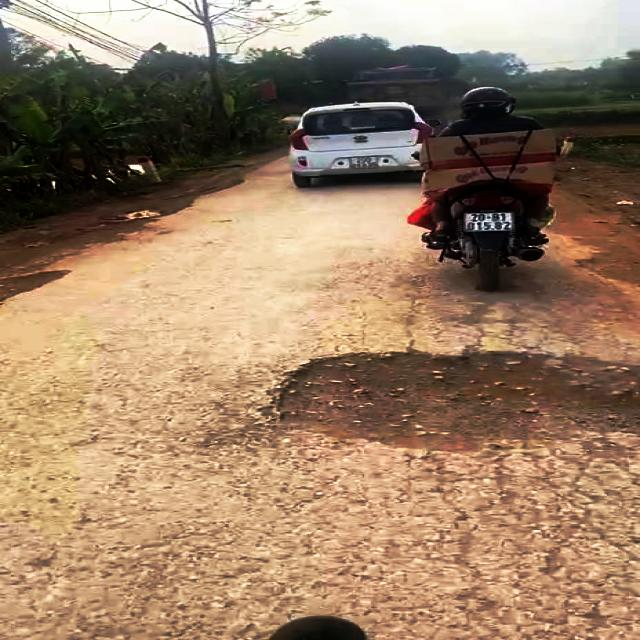pothole: (249, 342, 640, 460), (0, 269, 77, 311)
